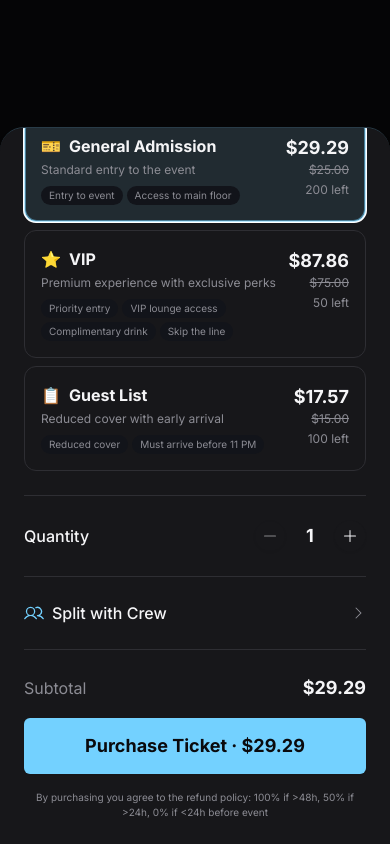
Test: TicketPurchaseSheet › disables the button while purchase is in-flight
(page scrolled)
Click the button "Purchase Ticket · $29.29" at (195, 746), box [24, 718, 366, 774]
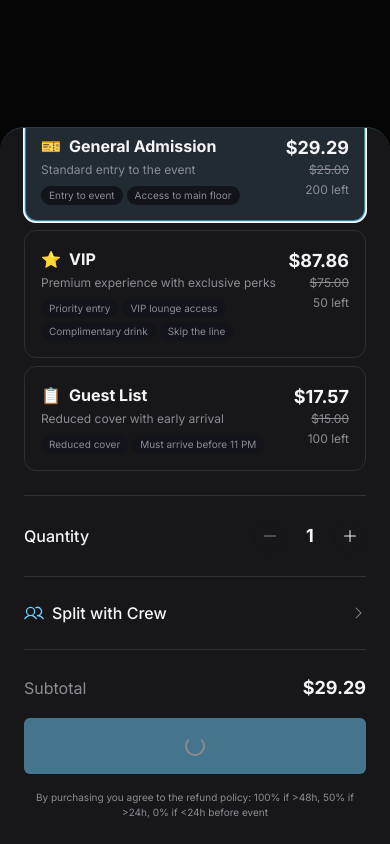
Result: the button named "purchase ticket" below "Subtotal" is disabled at [24, 718, 366, 774]
